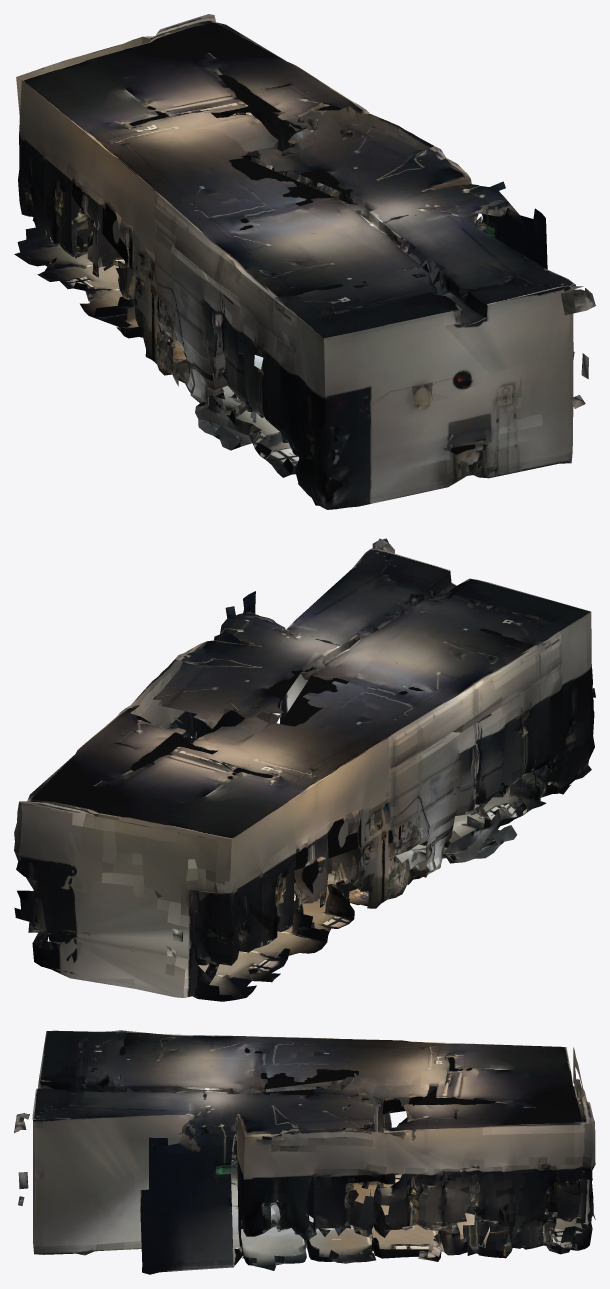
File: My_photo_back-IM.fbx
3 renders of one model, top to bottom at view 1: azimuth 30°, elevation 25°; view 2: azimuth 150°, elevation 25°; view 3: azimuth 270°, elevation 25°, orthographic. The views are drawn at different scales.
Visible parts, largest first — view 1: My_photo_back-IM; view 2: My_photo_back-IM; view 3: My_photo_back-IM.
Part boxes in pixels (x1,y1,x2,y2): My_photo_back-IM: (14, 14, 595, 509); My_photo_back-IM: (14, 538, 595, 1001); My_photo_back-IM: (14, 1030, 595, 1274).
Size of the model in its own units: 576 by 352 by 1251.
Materials: 1 (1 with a texture image).
